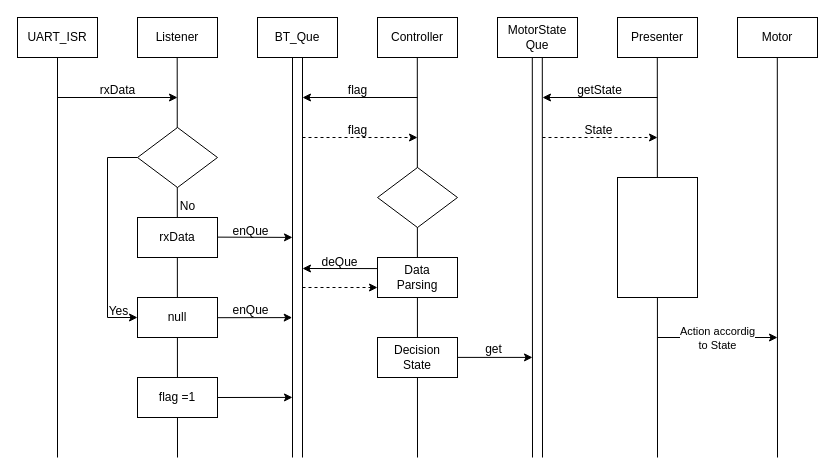
The diagram is 835 pixels wide and 476 high, and some of its shapes have lost their labels. The shapes that lost their labels are listed below. From the top down, each one's box as (x1, y1, x2, y2) in pixels, then its label:
(136, 126, 218, 188): rxData == ' ; '
(376, 166, 458, 228): flag == 1
(616, 176, 698, 298): GO STOP LEFT RIGHT STOP SPEED
